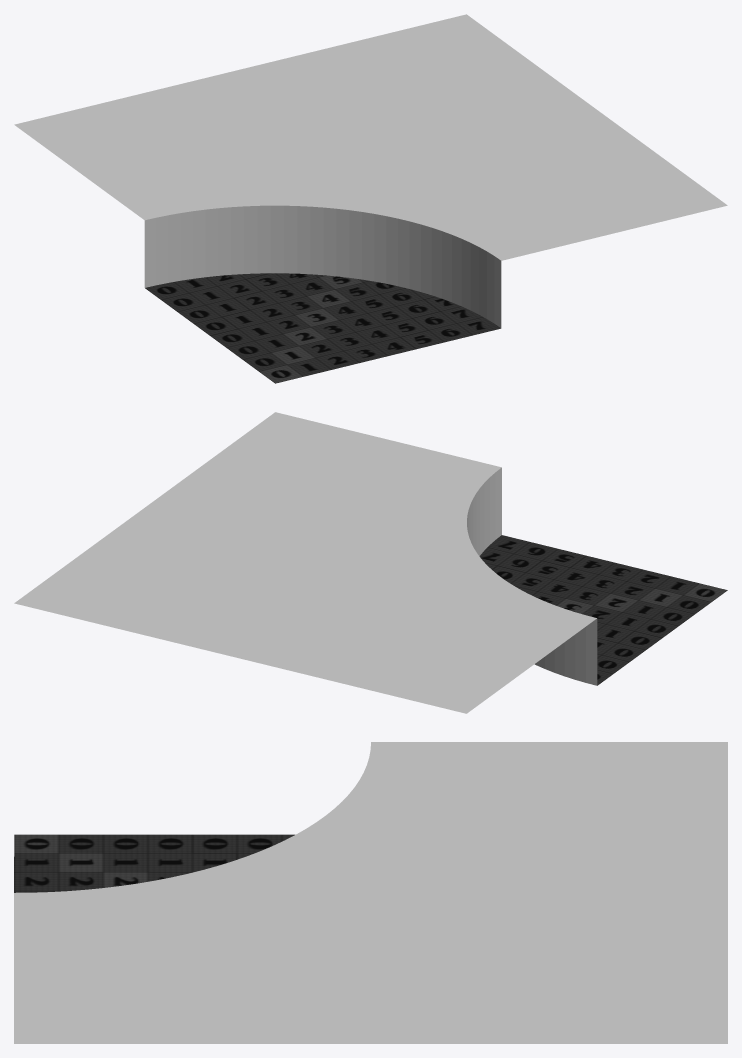
Rendered from Floor02_1.FBX.
The picture shows the model from 3 angles, top to bottom: view 1: azimuth 30°, elevation 25°; view 2: azimuth 150°, elevation 25°; view 3: azimuth 270°, elevation 25°; orthographic projection. The views are drawn at different scales.
Parts seen in each view (by area): view 1: Floor02_1; view 2: Floor02_1; view 3: Floor02_1.
Boxes of the visible parts, x1=… form: Floor02_1: x1=14, y1=14, x2=727, y2=383; Floor02_1: x1=14, y1=412, x2=727, y2=713; Floor02_1: x1=14, y1=742, x2=727, y2=1043.
Size of the model in its own units: 7000 by 1000 by 7002.
